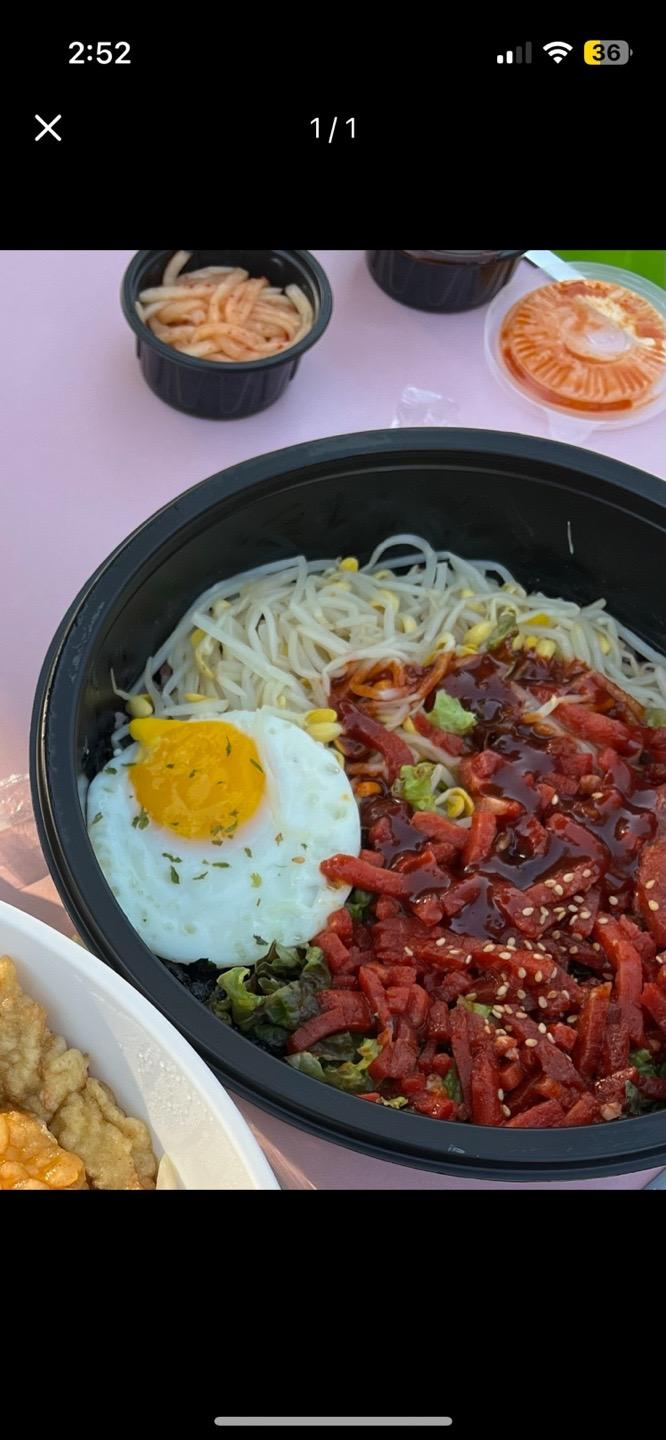Lunch Box: (30, 428, 665, 1180), (0, 902, 278, 1189), (485, 255, 665, 443)
cup: (121, 248, 331, 419)
